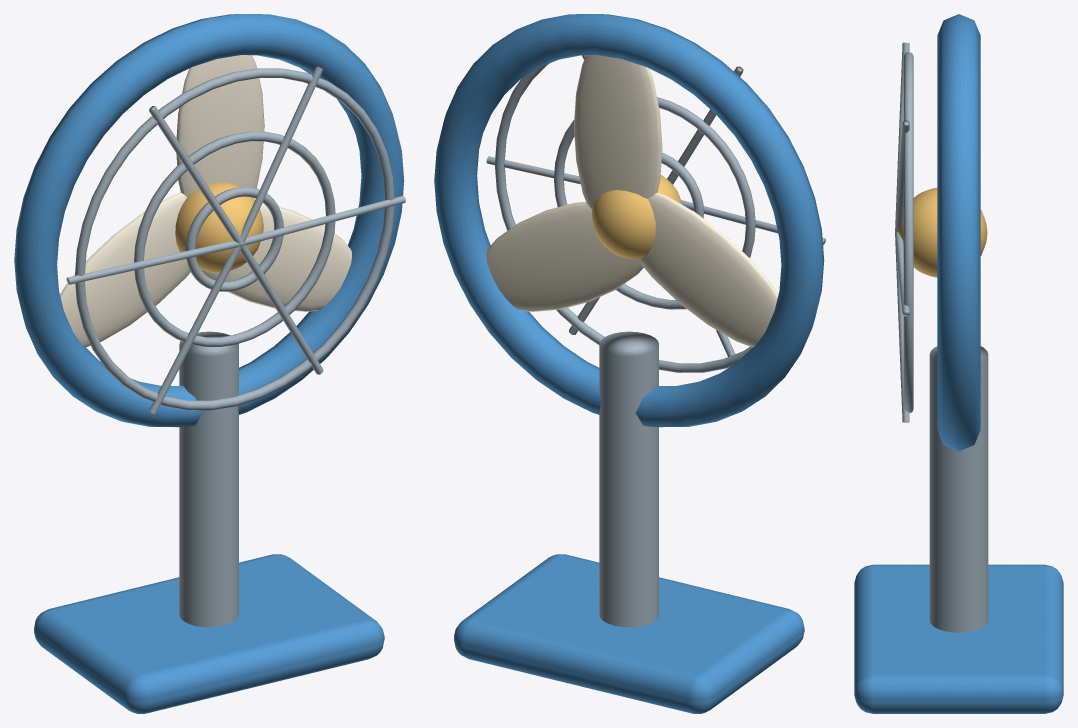
The model's file is FAN.glb.
3 views of the same model, side by side, from view 1: azimuth 30°, elevation 25°; view 2: azimuth 150°, elevation 25°; view 3: azimuth 270°, elevation 25° (orthographic).
Visible parts, largest first — view 1: FAN; view 2: FAN; view 3: FAN.
Part boxes in pixels (box(x1,y1,x2,y2)): FAN: box(14, 14, 405, 713); FAN: box(434, 14, 825, 713); FAN: box(854, 14, 1063, 713).
Size of the model in its own units: 0.522 by 0.821 by 0.25.
4 materials, 1 textured.
